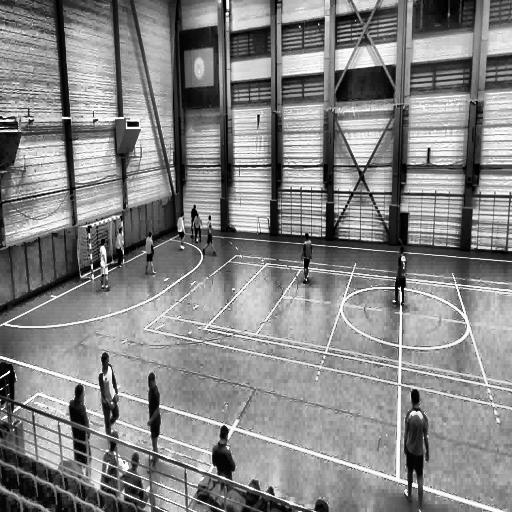ball: (196, 238, 198, 242)
player: (402, 388, 428, 511), (99, 354, 118, 435), (148, 371, 162, 469), (393, 244, 406, 306), (99, 239, 110, 291), (201, 216, 215, 253), (302, 233, 312, 284), (146, 232, 156, 274), (116, 228, 125, 268), (177, 214, 186, 251), (193, 213, 203, 246), (191, 206, 198, 238)
